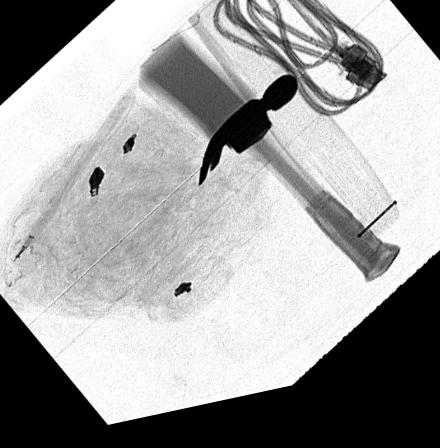Hammer: (198, 86, 400, 299)
